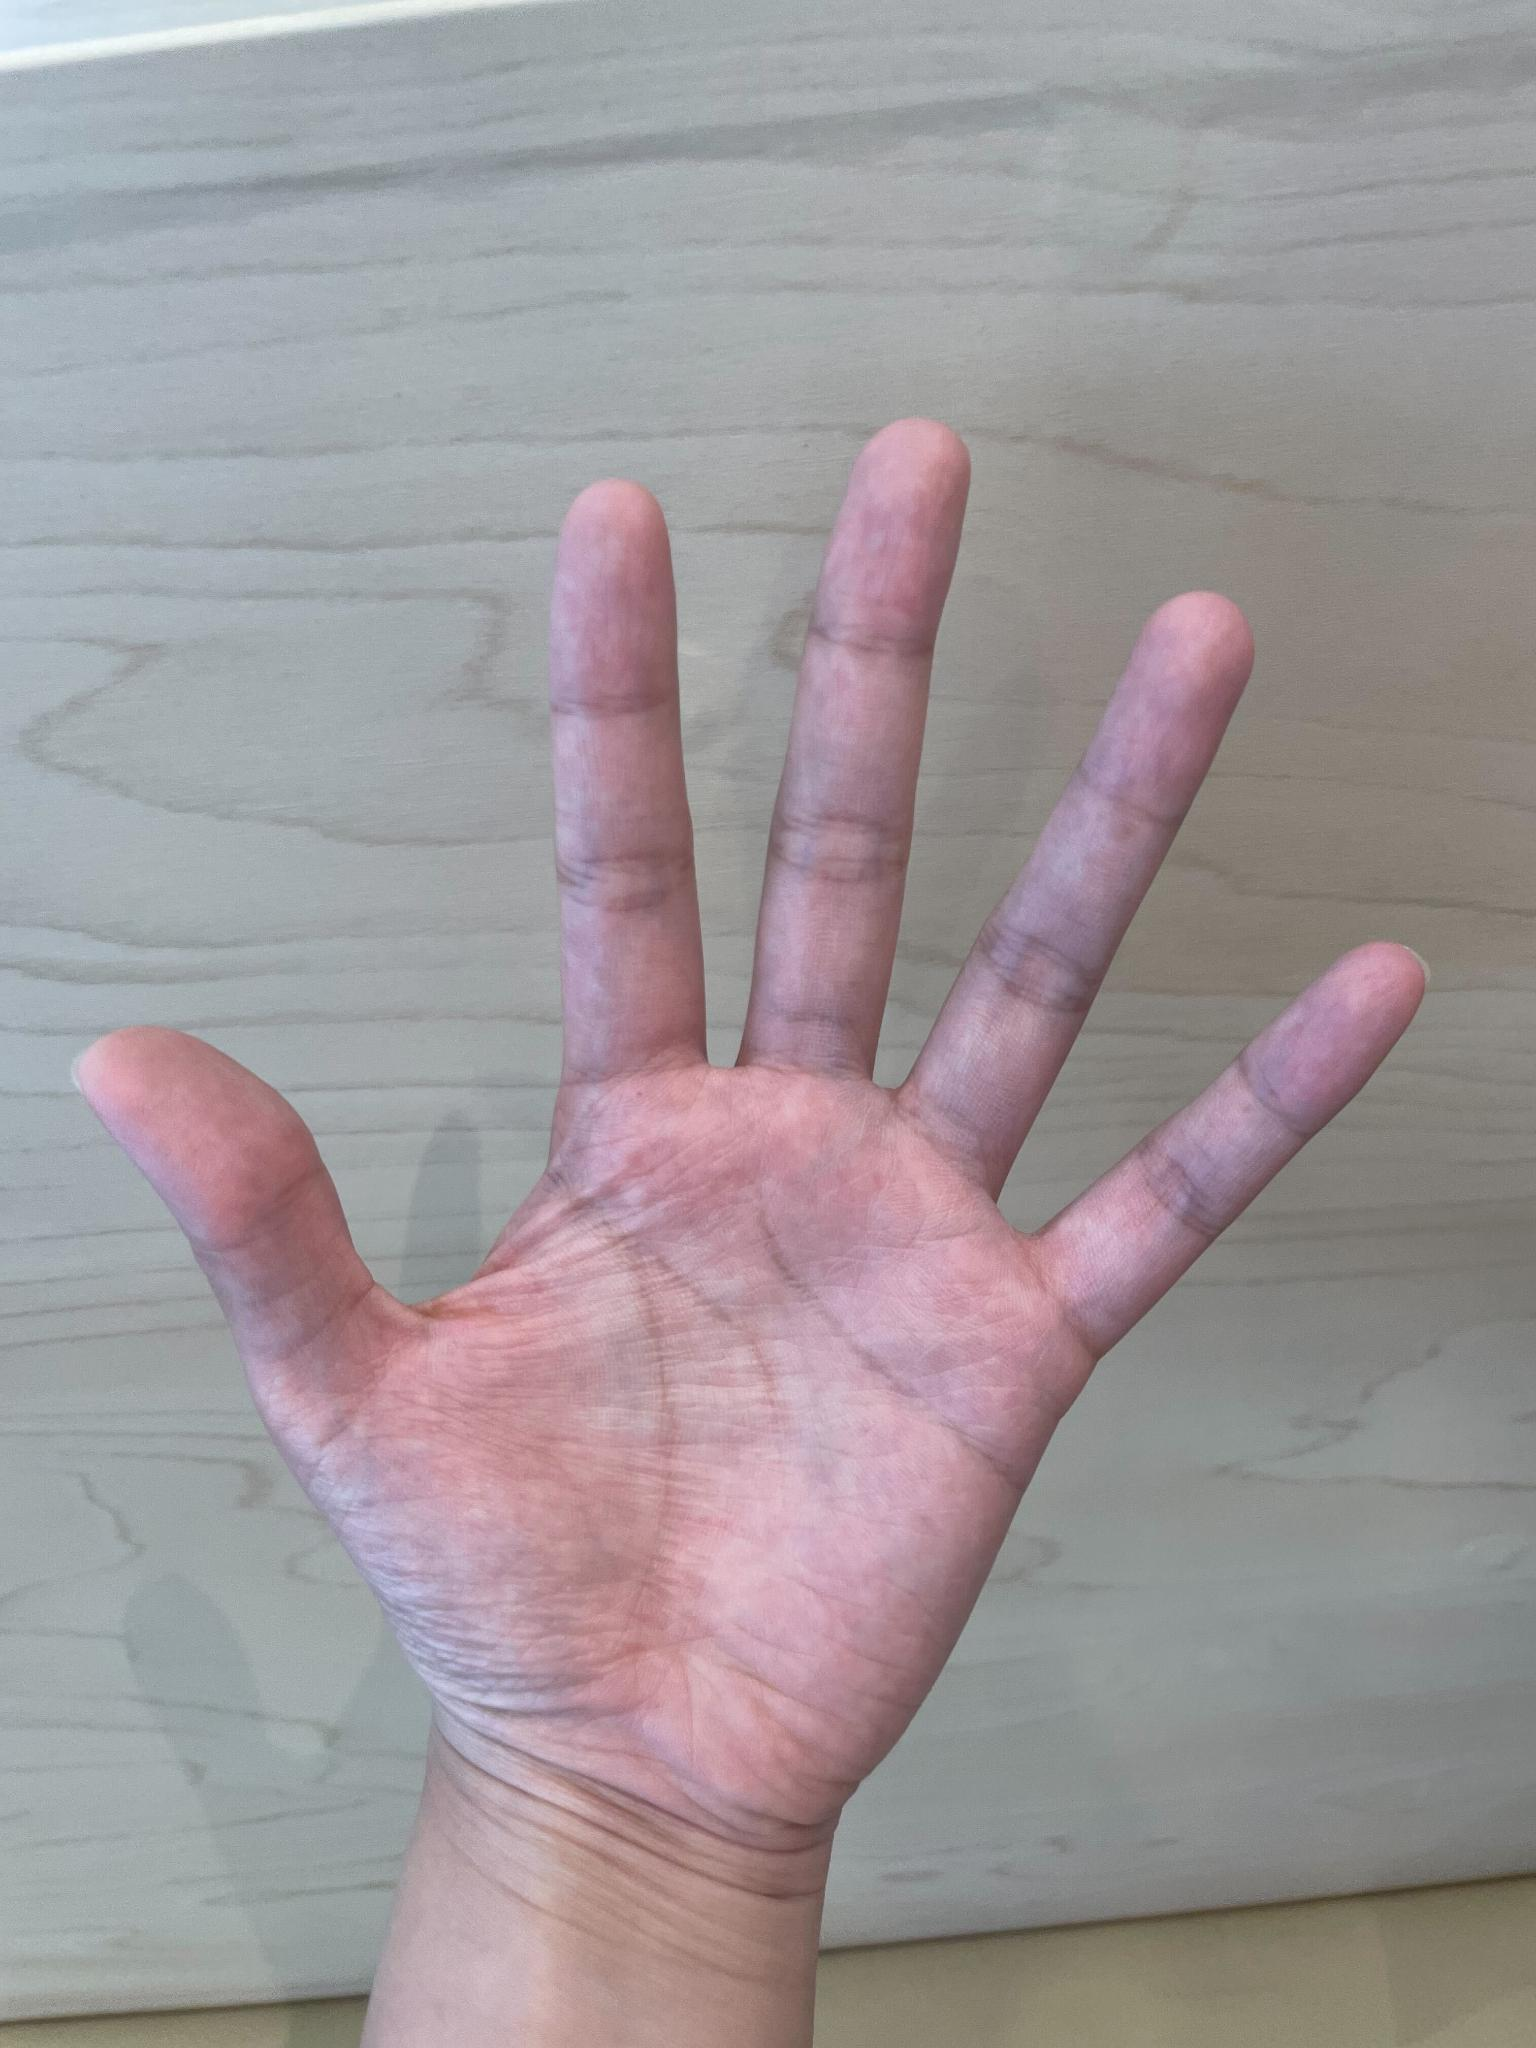open: (53, 410, 1454, 2048)
